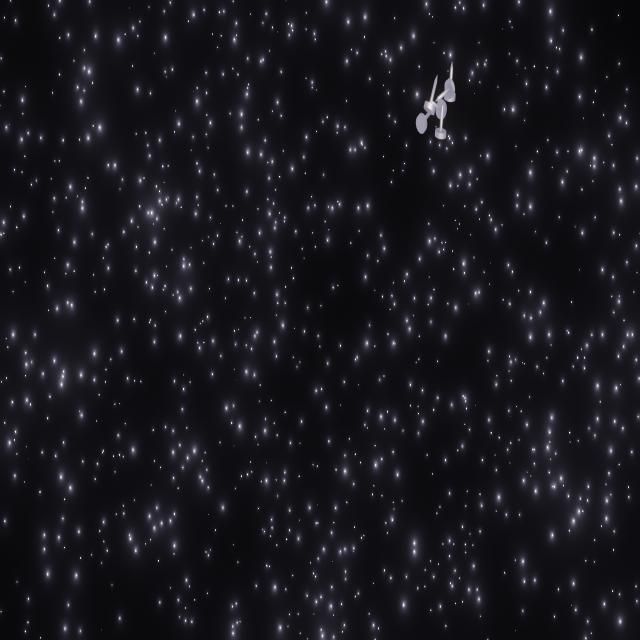large_debris: (416, 64, 457, 153)
